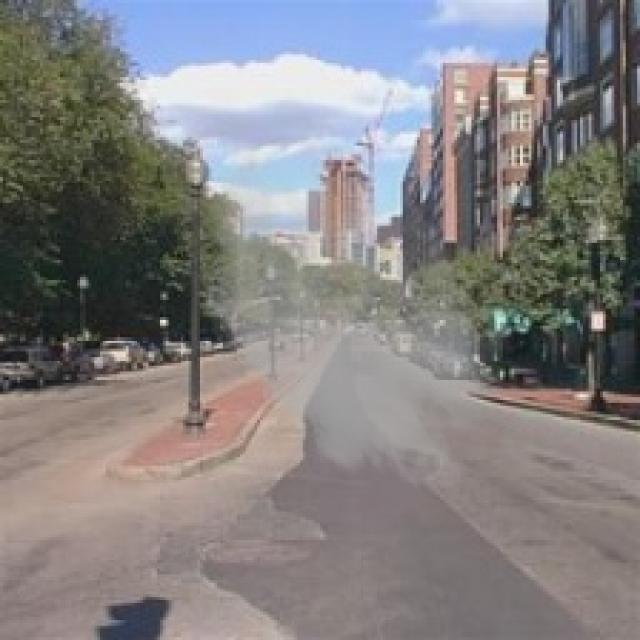Smoke: (163, 88, 520, 503)
